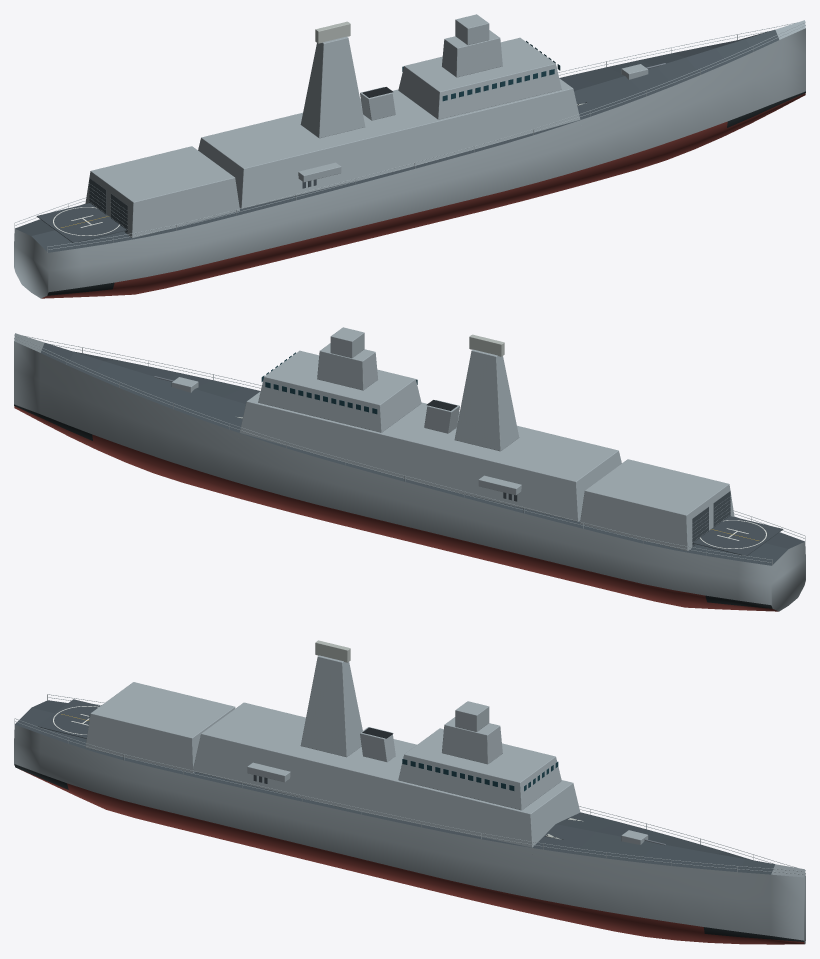
File: deu_ffg_sachsen.glb
3 views of the same model, one above another, from view 1: azimuth 30°, elevation 25°; view 2: azimuth 150°, elevation 25°; view 3: azimuth 330°, elevation 25° (orthographic).
Visible parts, largest first — view 1: deu_ffg_sachsen; view 2: deu_ffg_sachsen; view 3: deu_ffg_sachsen.
Part boxes in pixels (bbox=[...]): deu_ffg_sachsen: bbox=[14, 14, 805, 298]; deu_ffg_sachsen: bbox=[14, 327, 805, 611]; deu_ffg_sachsen: bbox=[14, 640, 805, 944].
Bounding box in the file's own units: 10 × 2.58 × 1.27.
